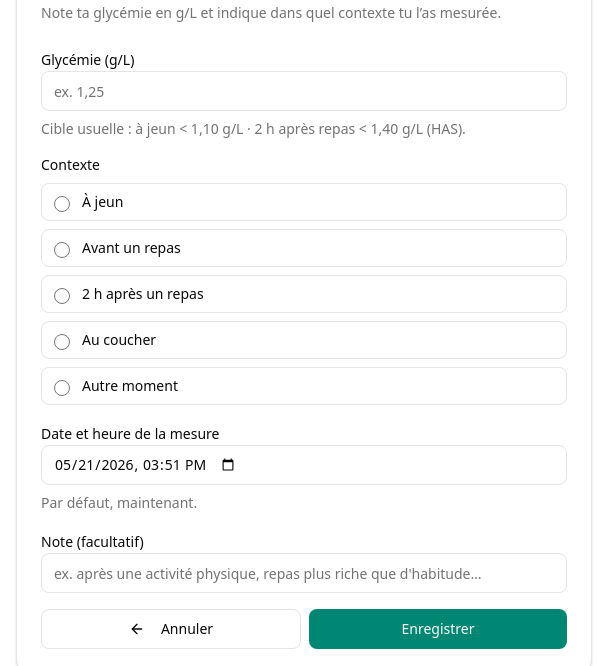
Test: <GlycemiaNewPage /> › blocks submission with empty value + no moment
The image size is (609, 666).
(page scrolled)
Click the button "Enregistrer".
click(438, 629)  # box x1=309 y1=609 x2=567 y2=649
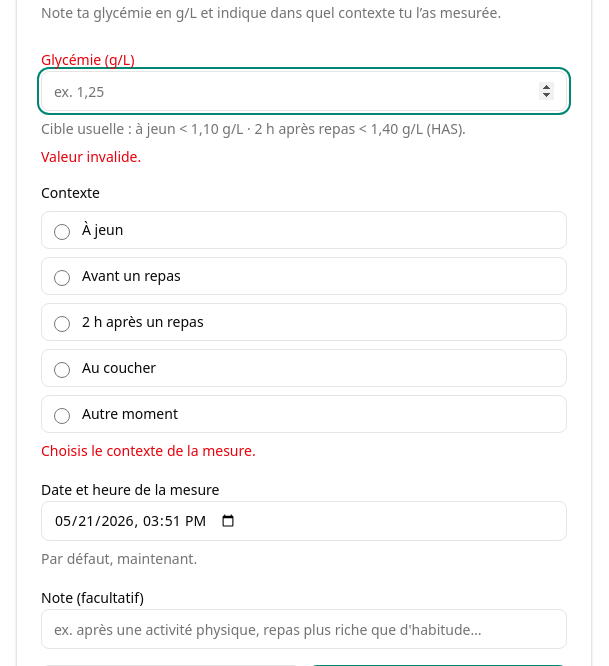
Result: the text "Choisis le contexte de la mesure." is shown at x1=41 y1=441 x2=256 y2=460
